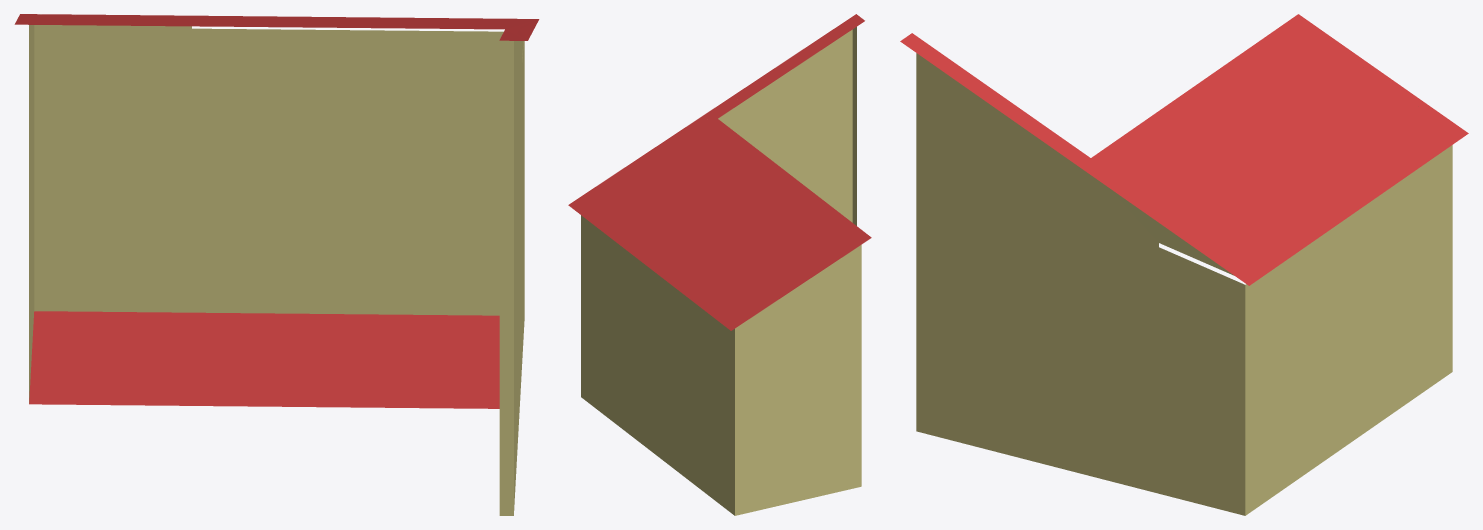
The picture shows the model from 3 angles, left to right: view 1: azimuth 30°, elevation 25°; view 2: azimuth 150°, elevation 25°; view 3: azimuth 270°, elevation 25°; orthographic projection. The views are drawn at different scales.
Size of the model in its own units: 9.93 by 12.16 by 9.23.
